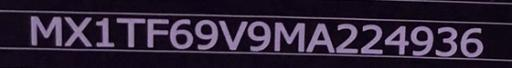letter: (26, 15, 64, 48), (272, 19, 304, 52), (216, 18, 248, 50), (114, 15, 144, 49), (63, 15, 93, 47), (306, 20, 334, 54), (458, 23, 488, 54), (407, 23, 435, 56), (358, 21, 386, 53), (168, 17, 194, 50), (247, 19, 273, 52), (433, 23, 459, 55), (384, 23, 410, 54), (194, 17, 218, 50), (146, 15, 170, 47), (334, 22, 358, 54), (92, 16, 114, 47)
